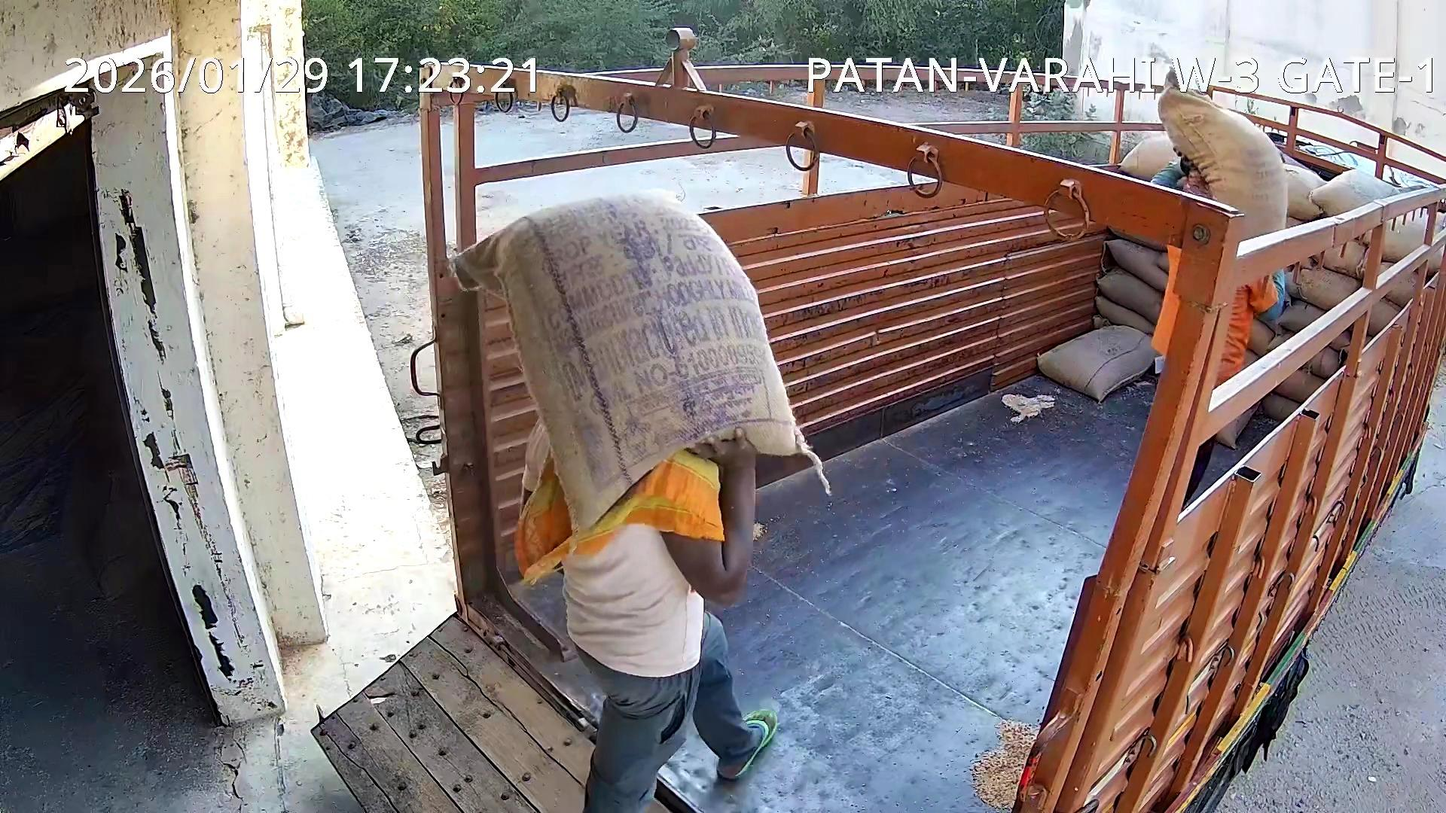Sack: (450, 191, 811, 528)
